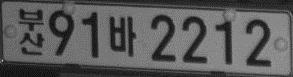1: (214, 18, 240, 65), (80, 11, 105, 57)
2: (245, 18, 272, 66), (150, 14, 176, 62), (181, 15, 207, 63)
9: (48, 10, 75, 56)
바: (109, 15, 137, 56)
부산_V: (18, 7, 44, 55)
